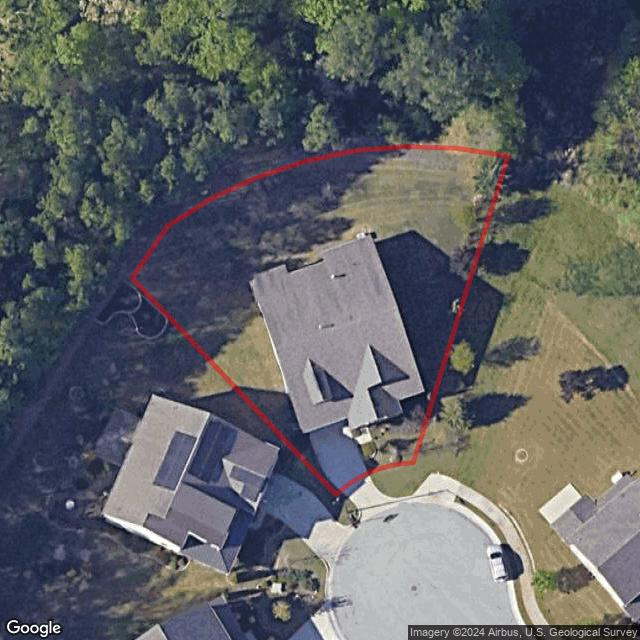Driveway: (307, 418, 368, 490)
Extra-Driveway: (342, 473, 399, 524)
Extra-Lawn: (369, 463, 425, 498), (335, 490, 361, 526)
House: (247, 232, 426, 435)
Lawn: (131, 146, 508, 495)
Other: (357, 392, 428, 463)
Sidewalk: (355, 424, 372, 444)
